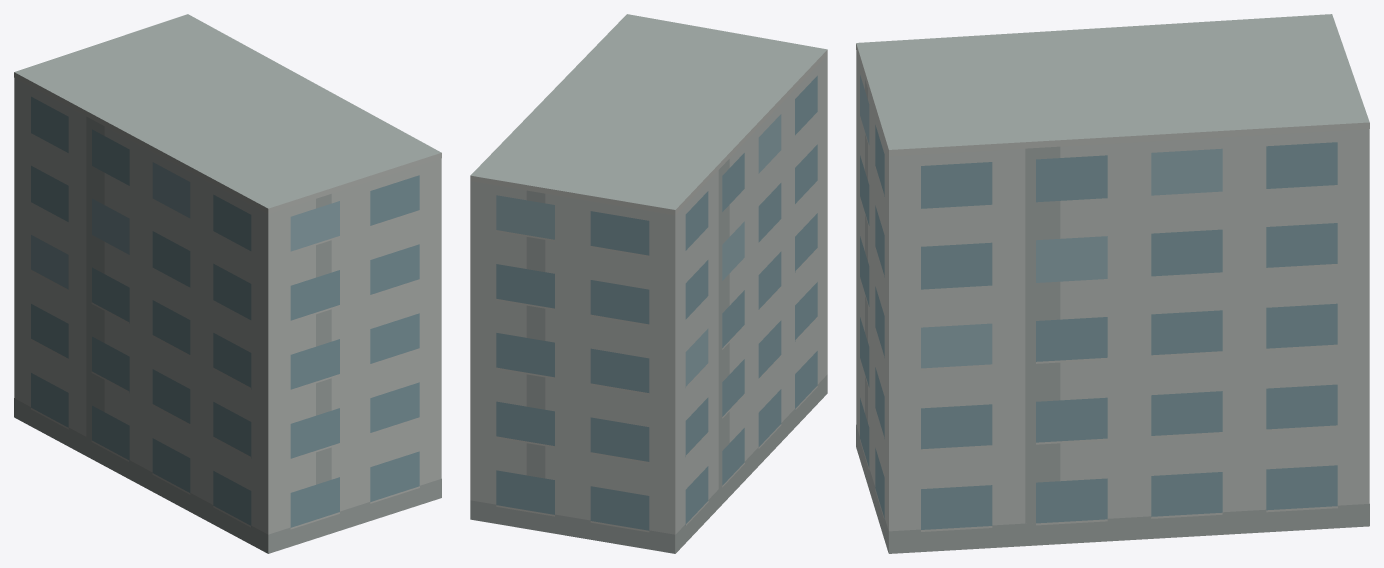
The model's file is survey-upis-32980770.glb.
3 views of the same model, side by side, from view 1: azimuth 30°, elevation 25°; view 2: azimuth 150°, elevation 25°; view 3: azimuth 270°, elevation 25° (orthographic). The views are drawn at different scales.
Parts seen in each view (by area): view 1: survey-upis-32980770.tmp; view 2: survey-upis-32980770.tmp; view 3: survey-upis-32980770.tmp.
Part boxes in pixels (x1,y1,x2,y2): survey-upis-32980770.tmp: (14,14,441,553); survey-upis-32980770.tmp: (470,14,827,553); survey-upis-32980770.tmp: (856,14,1369,553).
Size of the model in its own units: 11.02 by 15.25 by 17.59.
